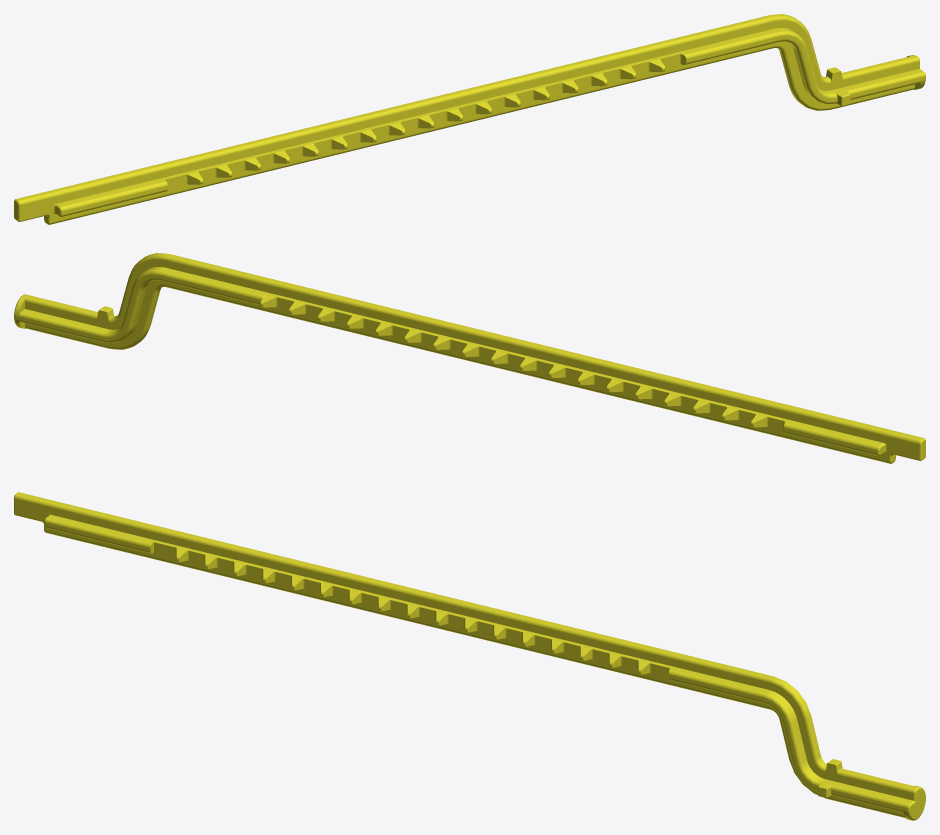
The model's file is POST.fbx.
3 renders of one model, top to bottom at view 1: azimuth 30°, elevation 25°; view 2: azimuth 150°, elevation 25°; view 3: azimuth 330°, elevation 25°, orthographic.
Visible parts, largest first — view 1: POST; view 2: POST; view 3: POST.
Part boxes in pixels (<box>): POST: <box>14,14,925,224</box>; POST: <box>14,253,925,463</box>; POST: <box>14,492,925,820</box>.
Size of the model in its own units: 23.81 by 2.7 by 1.1.
